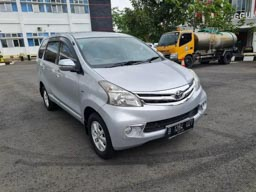plat: (165, 117, 195, 139)
